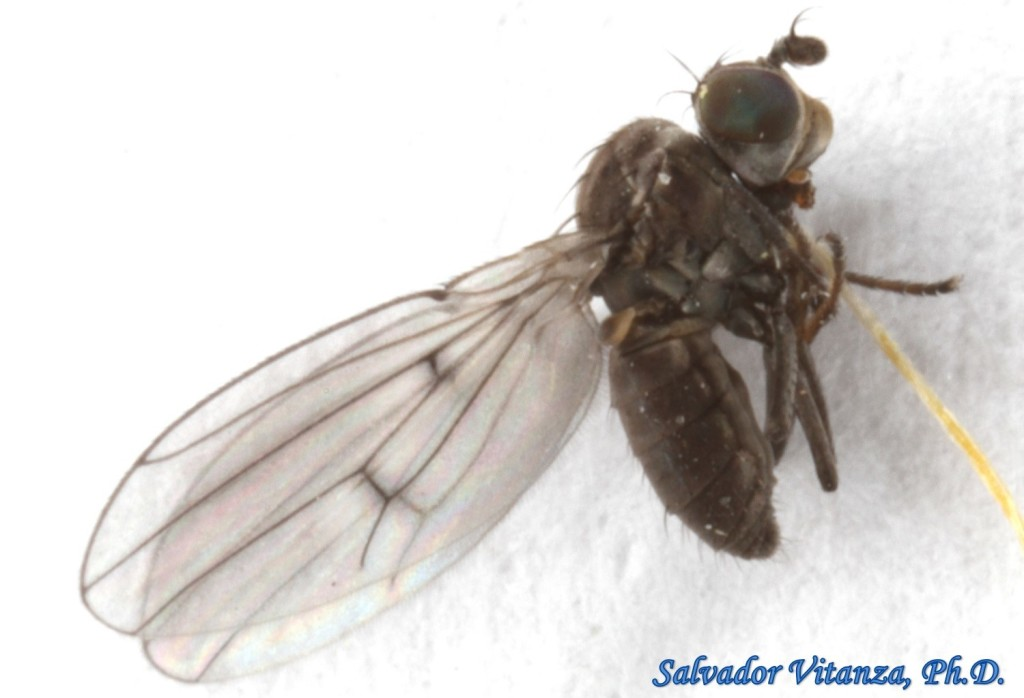Ephydridae: (76, 11, 1017, 685)
